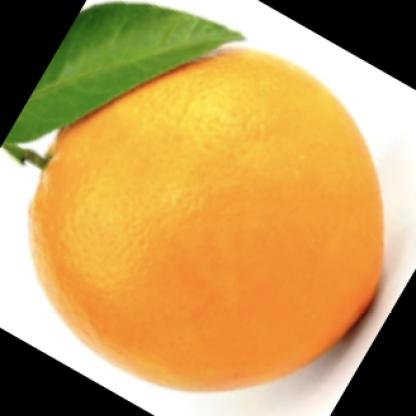fresh: (30, 41, 383, 393)
